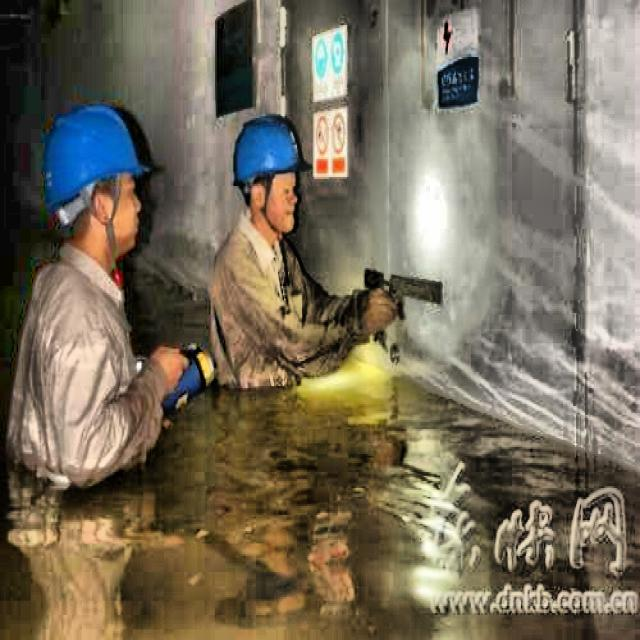helmet: (46, 95, 159, 261), (230, 106, 306, 234)
